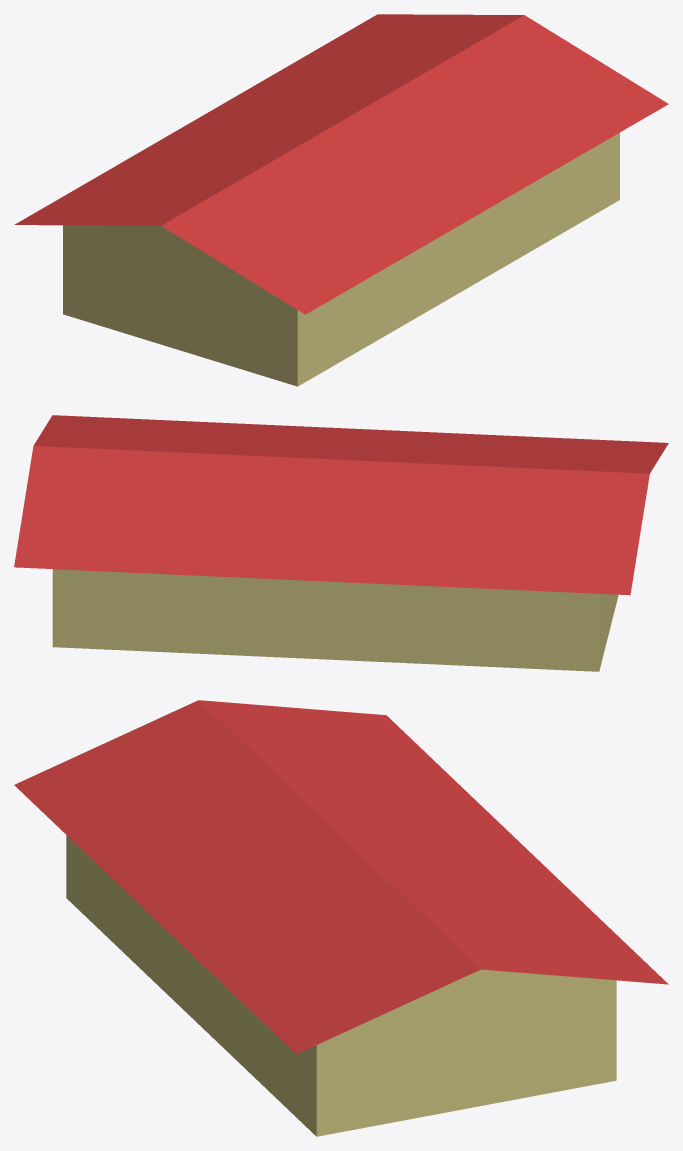
3 views of the same model, one above another, from view 1: azimuth 30°, elevation 25°; view 2: azimuth 150°, elevation 25°; view 3: azimuth 270°, elevation 25° (orthographic). The views are drawn at different scales.
Size of the model in its own units: 60.82 by 49.64 by 12.95.
